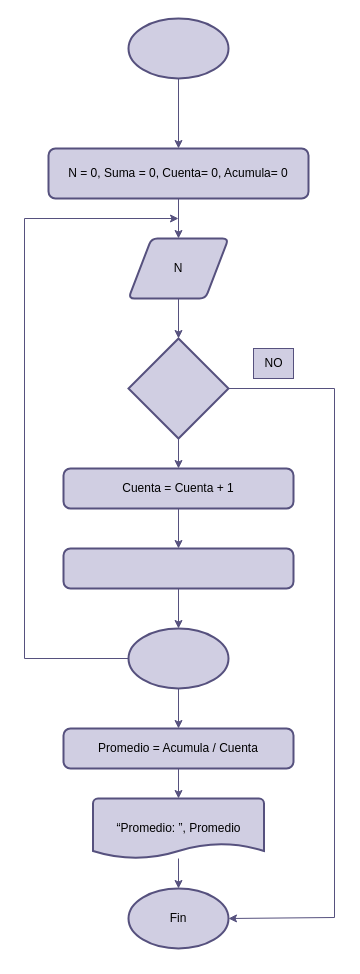
Some shapes in this 360 by 974 pixel diagram are drawn without their labels. The box of each missing label's shape, as (x1, y1, x2, y2) in pixels:
Acumula = Acumula + N: (62, 547, 294, 589)
Inicio: (127, 17, 229, 79)
N <> 0: (127, 337, 229, 439)
Retorno: (127, 627, 229, 689)
